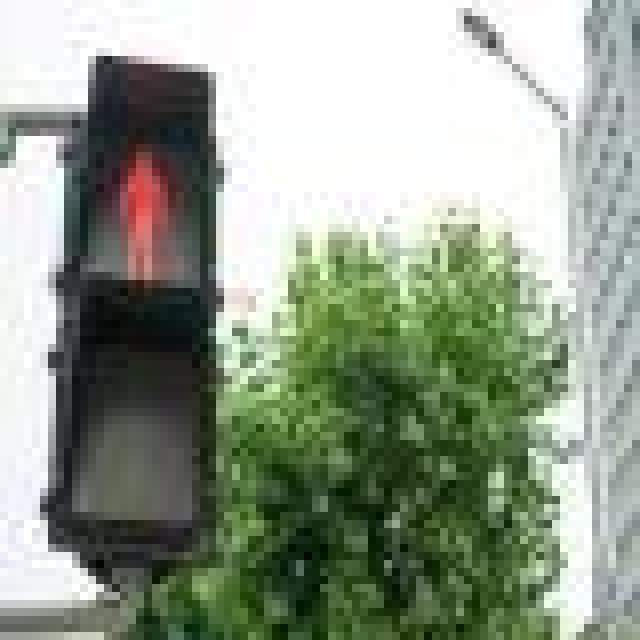redlight: (32, 64, 232, 552)
